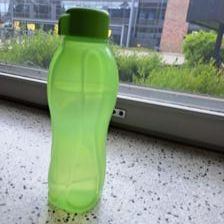bottle: (40, 8, 125, 213)
